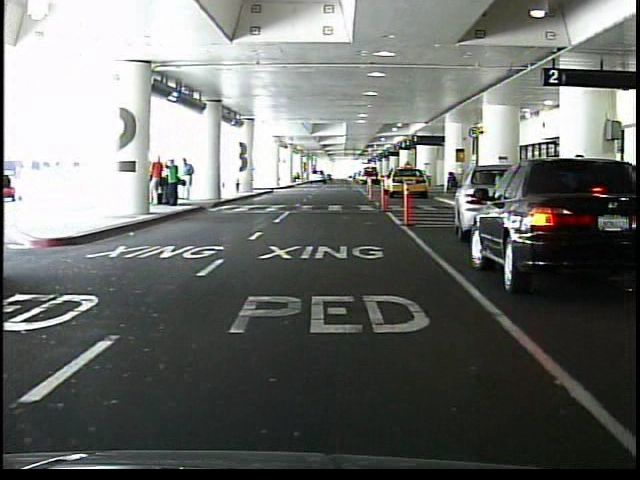person: (152, 153, 166, 207), (181, 158, 195, 202), (167, 158, 179, 207), (443, 171, 457, 195)
